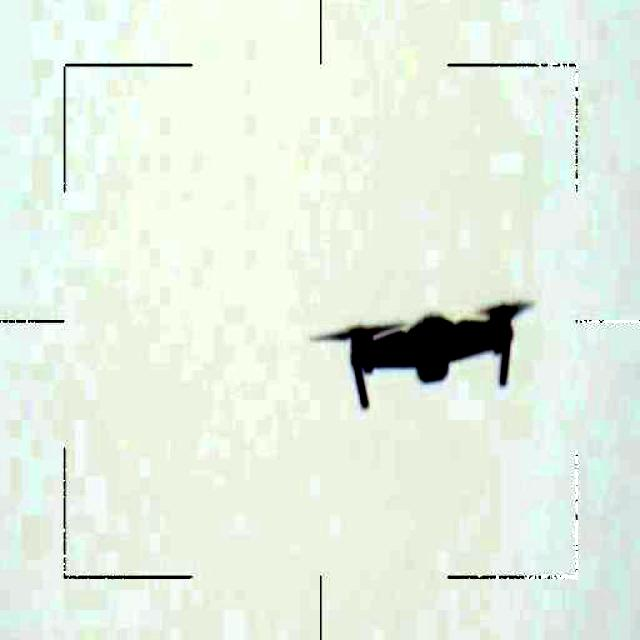bird: (304, 296, 542, 411)
